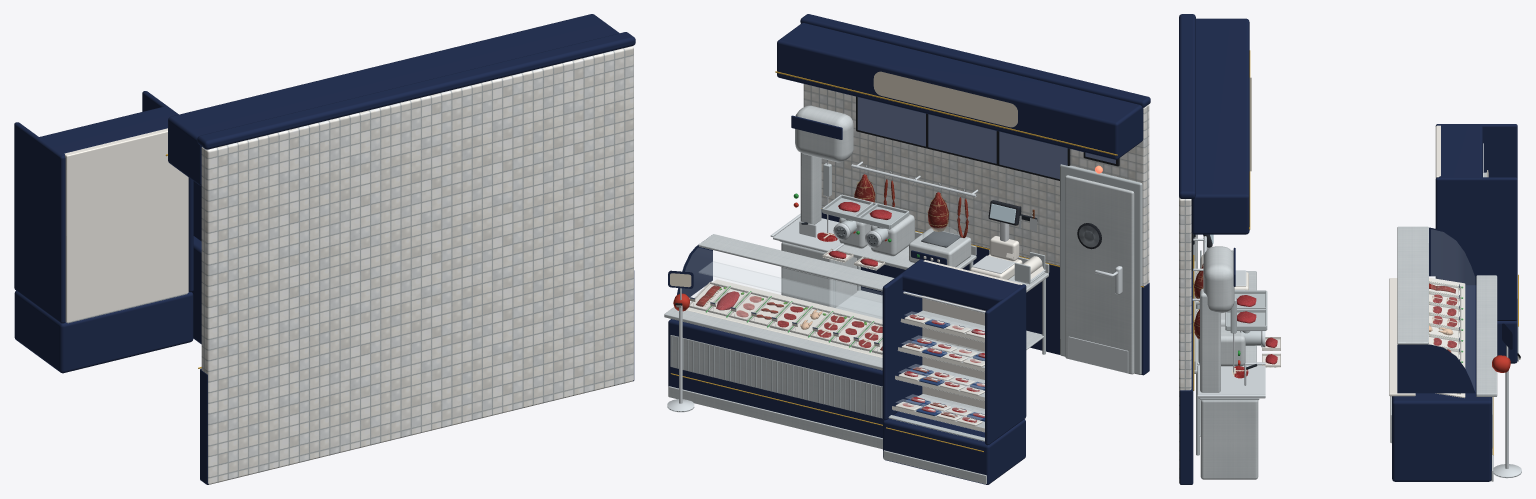
File: sector-acougue_T3.fbx
The picture shows the model from 3 angles, left to right: view 1: azimuth 30°, elevation 25°; view 2: azimuth 150°, elevation 25°; view 3: azimuth 270°, elevation 25°; orthographic projection. The views are drawn at different scales.
Visible parts, largest first — view 1: Body; view 2: Body; view 3: Body.
Boxes of the visible parts, x1,y1,x2,y2 form: Body: [14, 14, 635, 484]; Body: [664, 14, 1150, 484]; Body: [1179, 14, 1521, 484].
Bounding box in the file's own units: 4.04 × 3.08 × 3.26.
